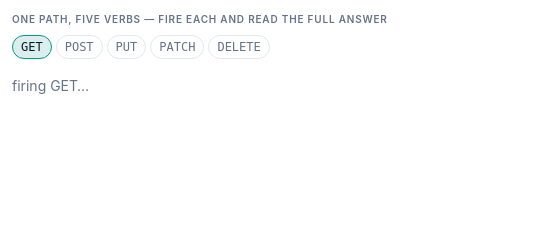
Test case: MethodsDemo › PATCH renders 204 with the deliberate empty body, without parsing JSON
The width and height of the screenshot is (535, 229).
Click the button with test id "reqres-verb-patch". click: point(177, 47)
box: [150,35,204,59]
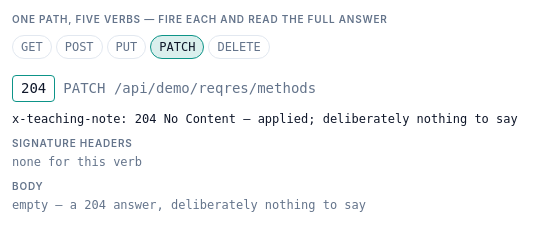
Expected: the text with test id "reqres-status" reads "204", [21,80,46,96]
Expected: the text with test id "reqres-empty-body" shows "empty", [12,198,366,212]
